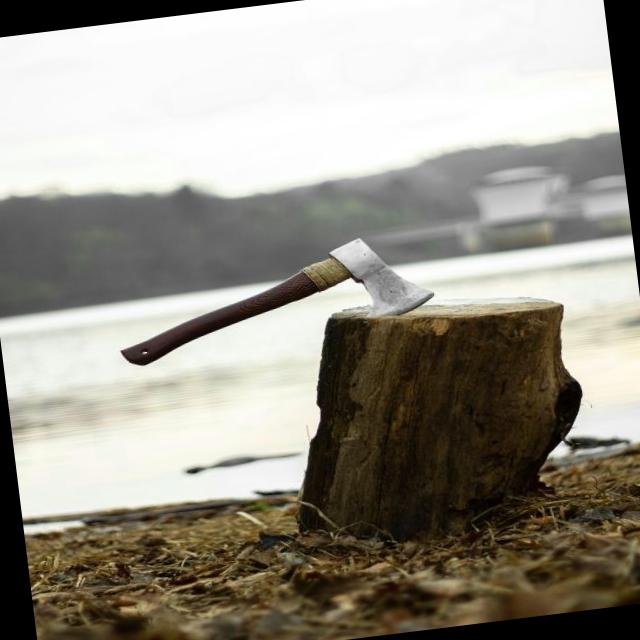Axe: (121, 238, 432, 363)
